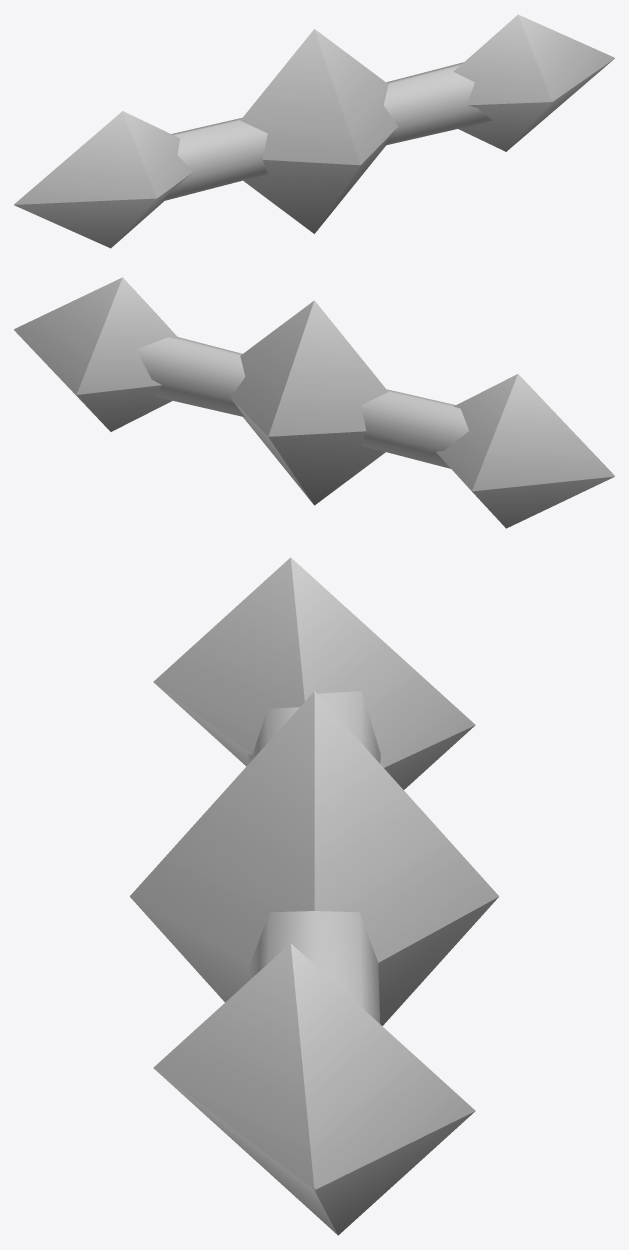
File: stone_guard_047.glb
3 renders of one model, top to bottom at view 1: azimuth 30°, elevation 25°; view 2: azimuth 150°, elevation 25°; view 3: azimuth 270°, elevation 25°, orthographic. The views are drawn at different scales.
Visible parts, largest first — view 1: stone_guard.047; view 2: stone_guard.047; view 3: stone_guard.047.
Part boxes in pixels (box(x1,y1,x2,y2)): stone_guard.047: box(14, 14, 614, 248); stone_guard.047: box(14, 277, 614, 528); stone_guard.047: box(130, 557, 498, 1235).
Bounding box in the file's own units: 8.65 × 2.83 × 2.31.
Materials: 1 (1 with a texture image).
